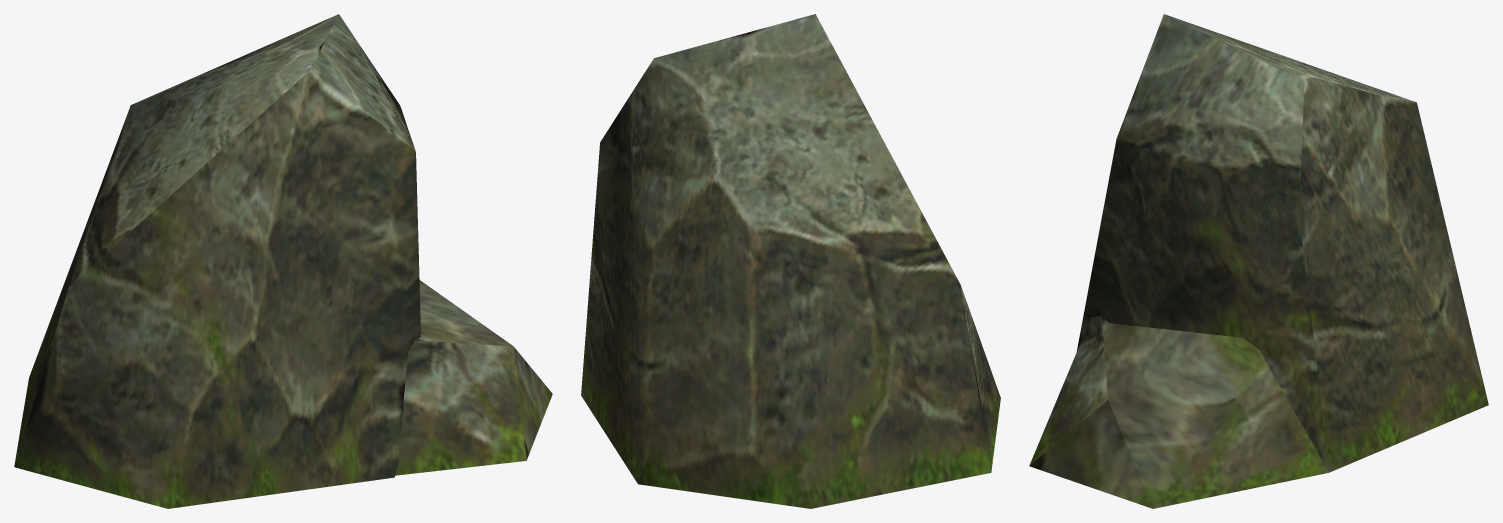
Rendered from Utility_Stone_Maincity03_05_LOD2.FBX.
3 views of the same model, side by side, from view 1: azimuth 30°, elevation 25°; view 2: azimuth 150°, elevation 25°; view 3: azimuth 270°, elevation 25° (orthographic). The views are drawn at different scales.
Parts seen in each view (by area): view 1: cmc_shitou05_LOD2; view 2: cmc_shitou05_LOD2; view 3: cmc_shitou05_LOD2.
Part boxes in pixels (left/top/right/bottom): cmc_shitou05_LOD2: left=14, top=14, right=552, bottom=508; cmc_shitou05_LOD2: left=581, top=14, right=1000, bottom=508; cmc_shitou05_LOD2: left=1029, top=14, right=1488, bottom=508.
Size of the model in its own units: 226 by 172 by 188.
